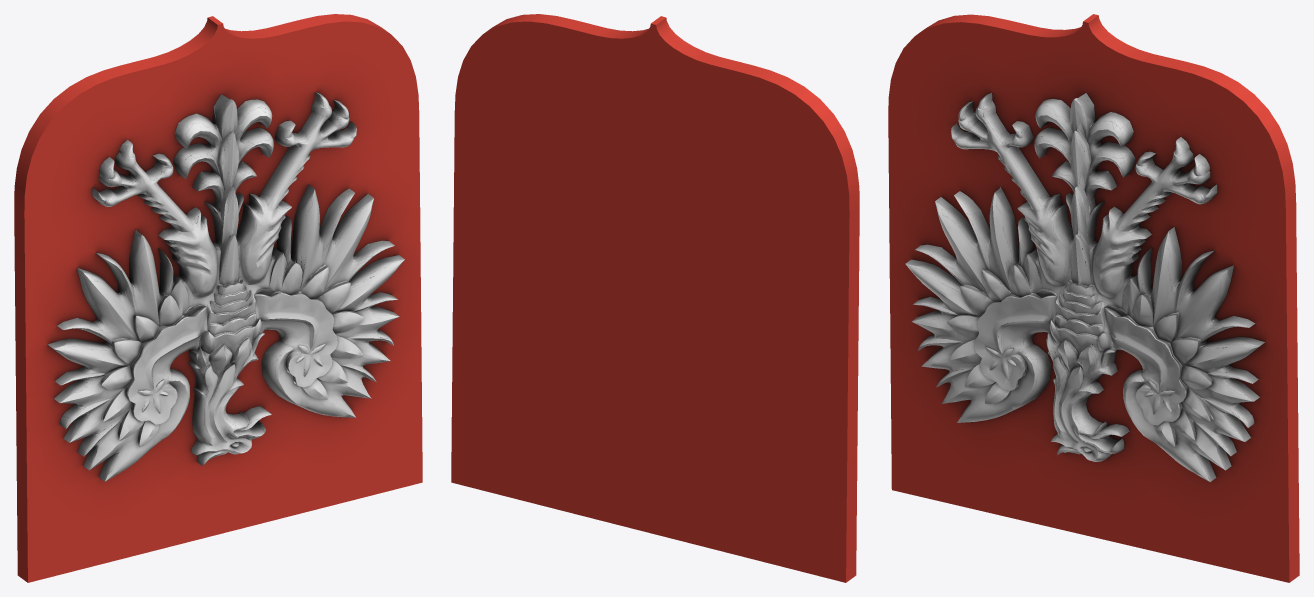
The model's file is godloprl.fbx.
The picture shows the model from 3 angles, left to right: view 1: azimuth 30°, elevation 25°; view 2: azimuth 150°, elevation 25°; view 3: azimuth 330°, elevation 25°; orthographic projection.
Visible parts, largest first — view 1: Polish_Emblem; view 2: Polish_Emblem; view 3: Polish_Emblem.
Boxes of the visible parts, x1,y1,x2,y2 form: Polish_Emblem: [14, 14, 422, 582]; Polish_Emblem: [451, 14, 859, 582]; Polish_Emblem: [888, 14, 1299, 582].
Size of the model in its own units: 837 by 1027 by 84.06.
